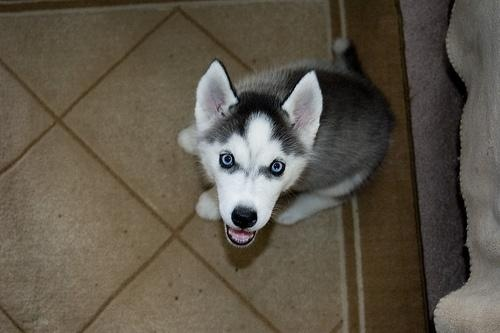dog: (177, 37, 394, 249)
